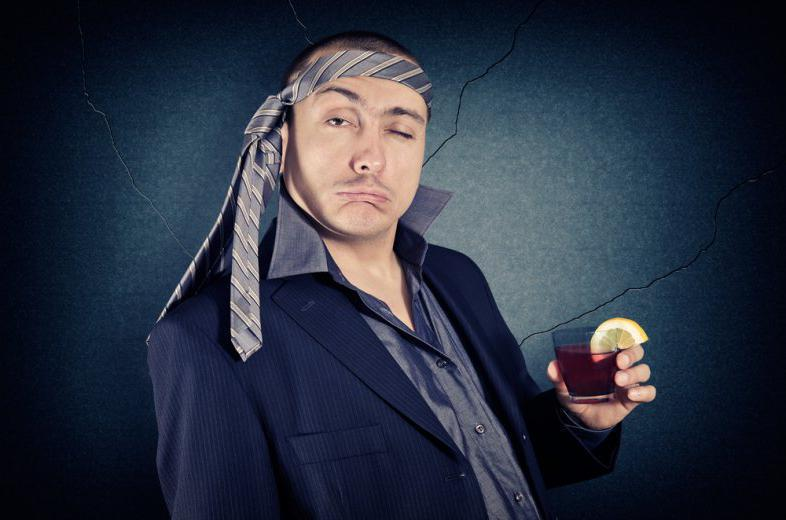Drunk: (313, 76, 423, 235)
